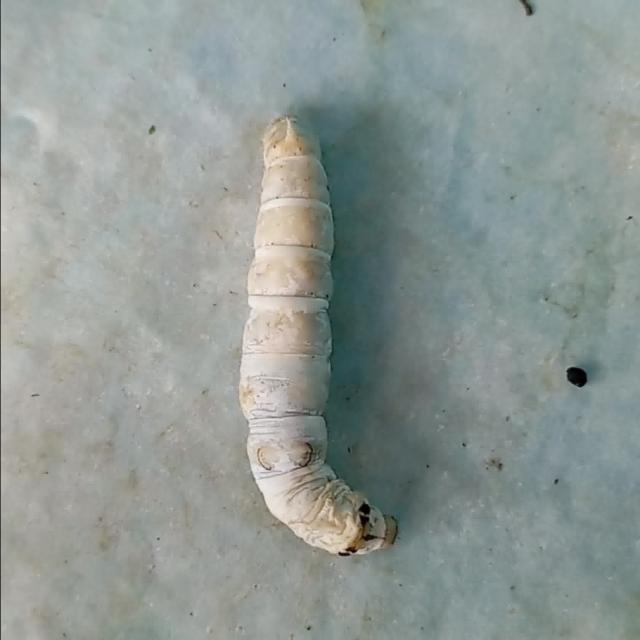Grasserie: (223, 94, 425, 588)
